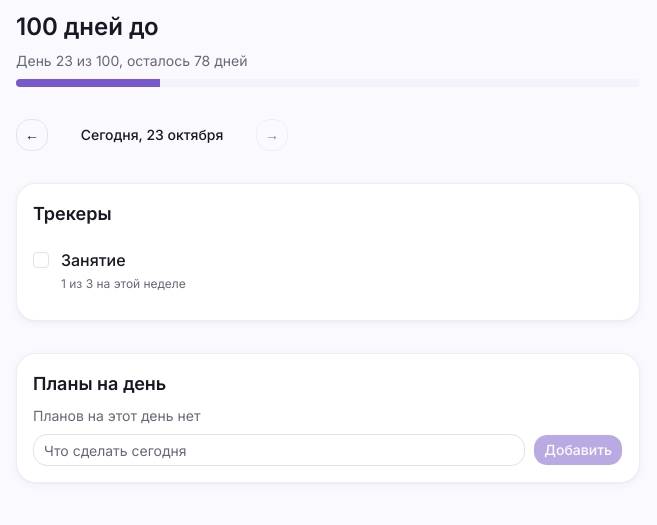
Test case: DayScreen без параметра даты › добавленный пункт появляется в списке
The image size is (657, 525).
Type "Купить хлеб" into the field named "новый пункт" at (279,450), box [33,434,525,466]
Then press Enter
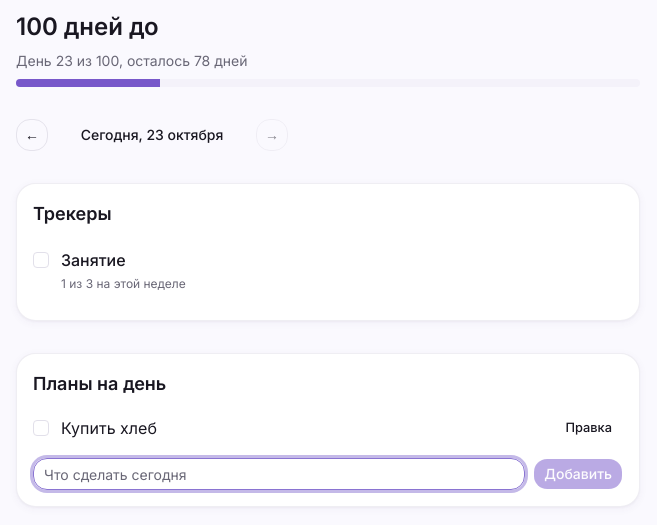
Expected: the text "Купить хлеб" is shown, [61,418,157,438]
